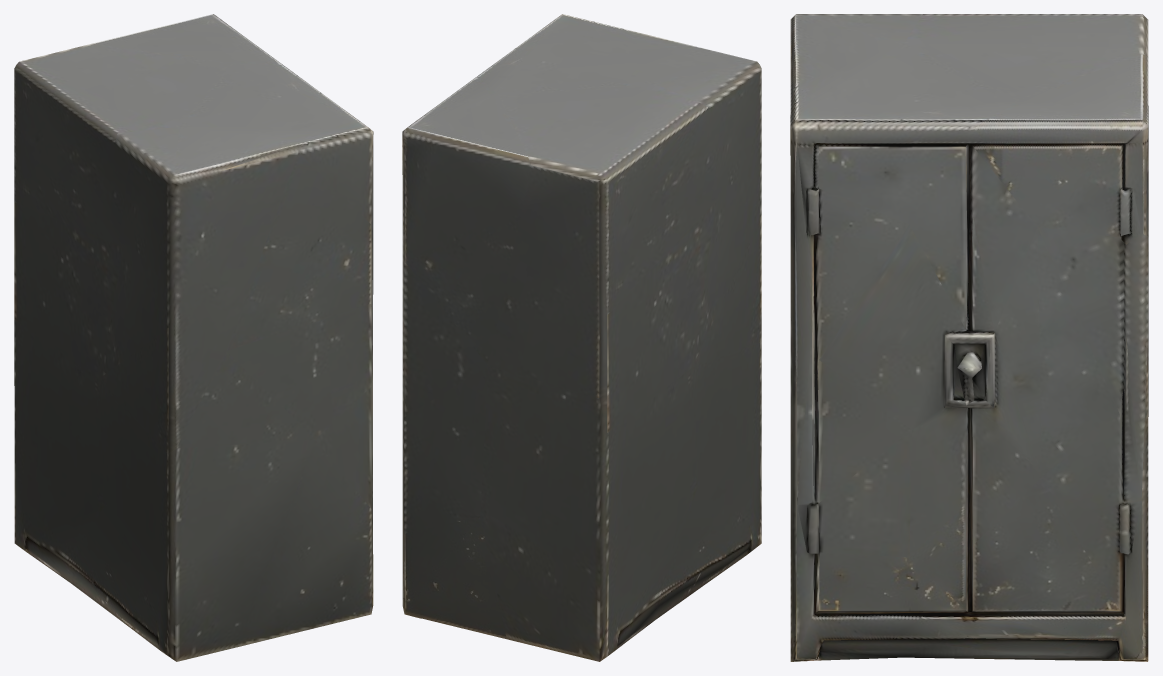
The model's file is tripo_convert_5c7f7e0b-d8d1-43f6-894e-cf7221a078b6.fbx.
The picture shows the model from 3 angles, left to right: view 1: azimuth 30°, elevation 25°; view 2: azimuth 150°, elevation 25°; view 3: azimuth 270°, elevation 25°; orthographic projection. The views are drawn at different scales.
Visible parts, largest first — view 1: tripo_node_5c7f7e0b; view 2: tripo_node_5c7f7e0b; view 3: tripo_node_5c7f7e0b.
Part boxes in pixels (x1,y1,x2,y2): tripo_node_5c7f7e0b: (14, 14, 373, 661); tripo_node_5c7f7e0b: (402, 14, 761, 661); tripo_node_5c7f7e0b: (790, 14, 1148, 661).
Bounding box in the file's own units: 0.4764 × 1 × 0.5988.
1 material, 1 textured.
